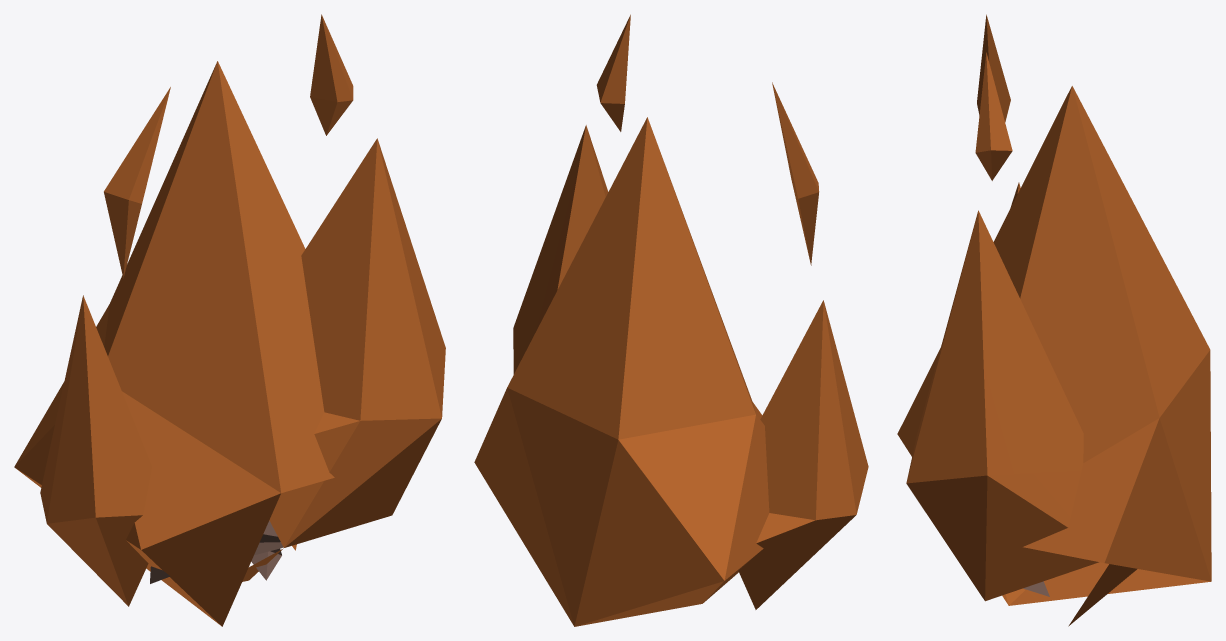
File: fire.fbx
3 renders of one model, left to right at view 1: azimuth 30°, elevation 25°; view 2: azimuth 150°, elevation 25°; view 3: azimuth 270°, elevation 25°, orthographic. The views are drawn at different scales.
Visible parts, largest first — view 1: Bonfire_Fire; view 2: Bonfire_Fire; view 3: Bonfire_Fire.
Boxes of the visible parts, x1,y1,x2,y2 form: Bonfire_Fire: (14,14,445,626); Bonfire_Fire: (474,14,868,626); Bonfire_Fire: (897,14,1211,626).
Bounding box in the file's own units: 100 × 141 × 211.
